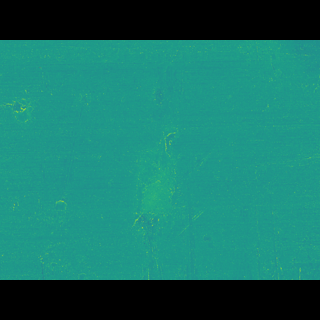Loch: (127, 131, 192, 230), (10, 112, 39, 134)
